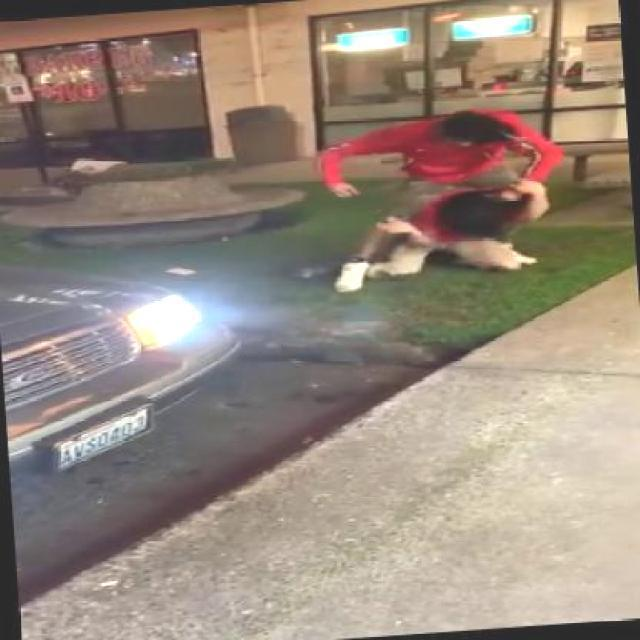fight: (308, 103, 572, 294)
